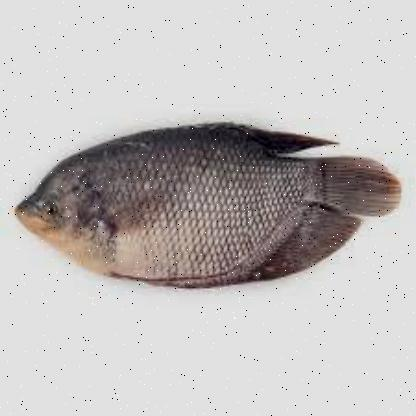ikan-pacu: (13, 124, 386, 288)
